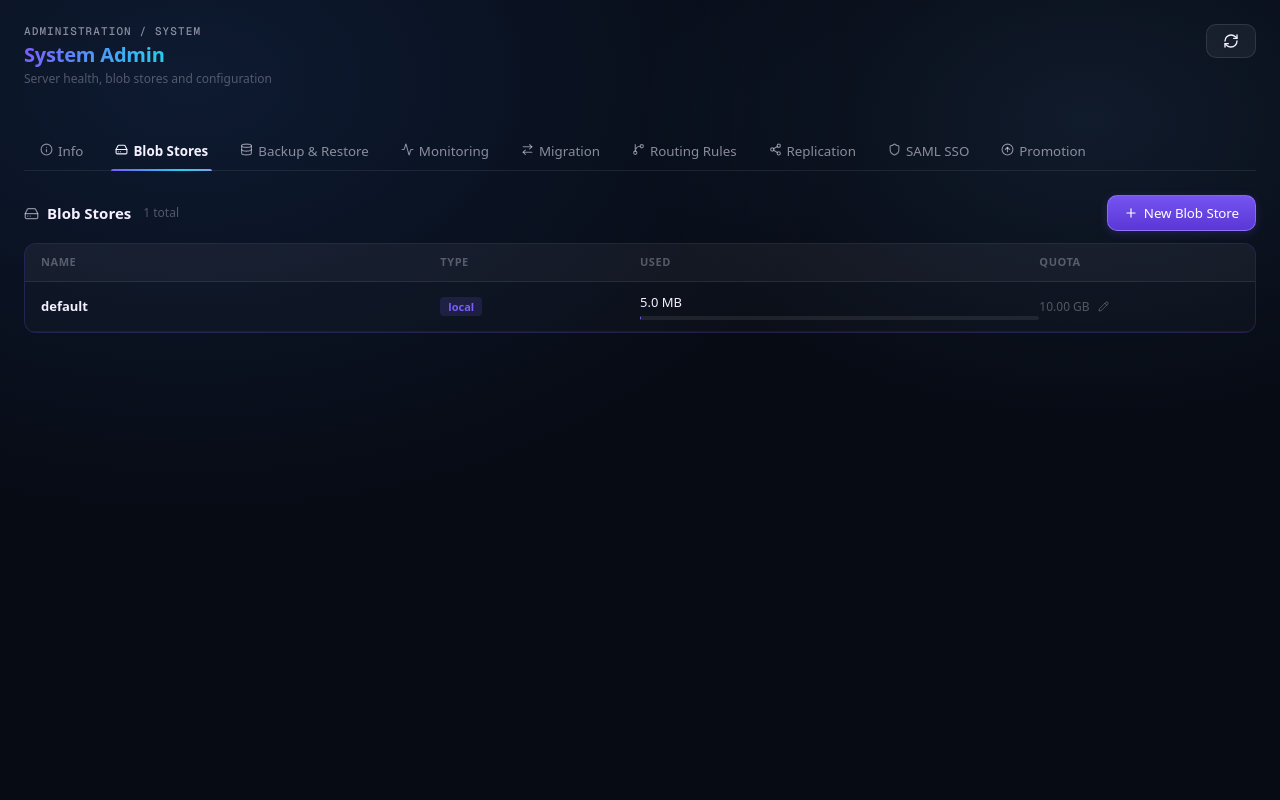
Test: AdminPage — Blob Stores tab › detail modal: runs a dry-run garbage collection
Click the text "default".
click(64, 306)  # box top-left (41, 297), bottom-right (88, 315)
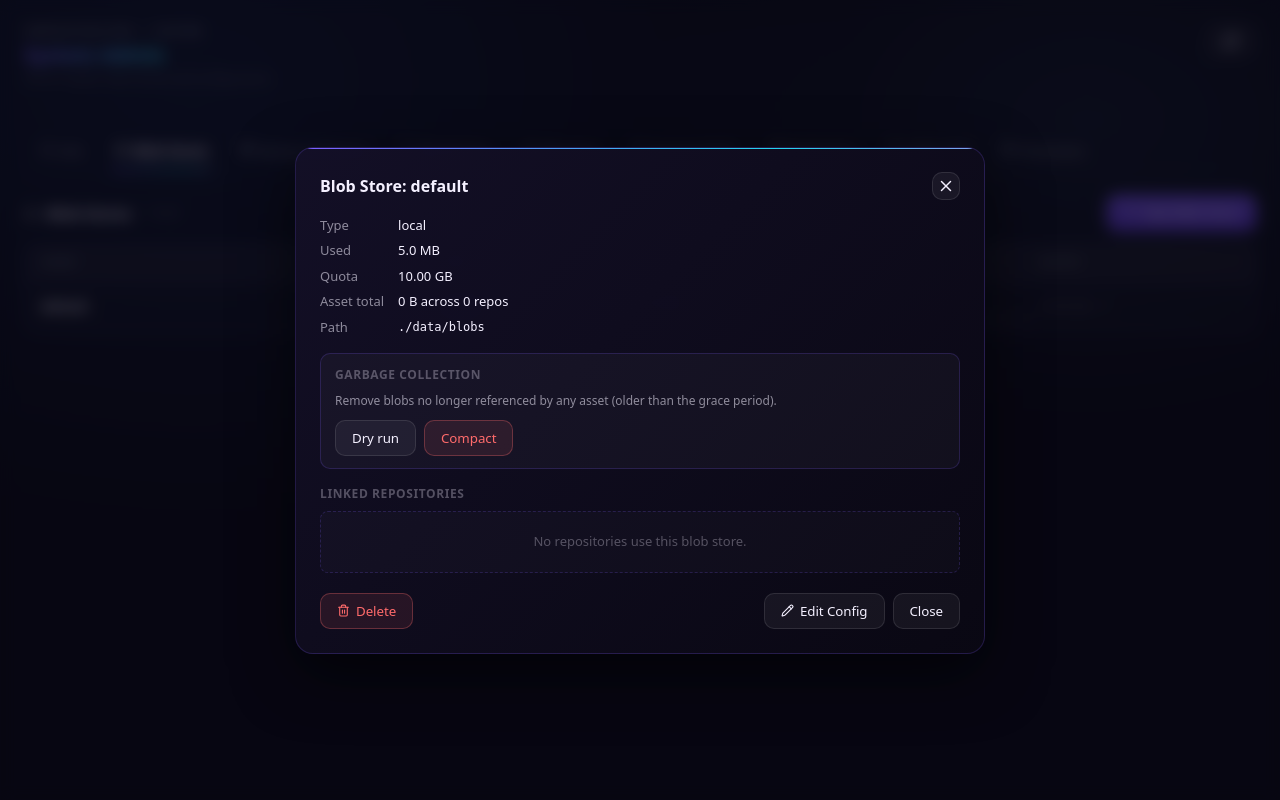
Result: the heading "Blob Store: default" is shown at top-left (320, 174), bottom-right (468, 198)
Click the button "Dry run".
click(376, 438)  # box top-left (335, 420), bottom-right (416, 456)
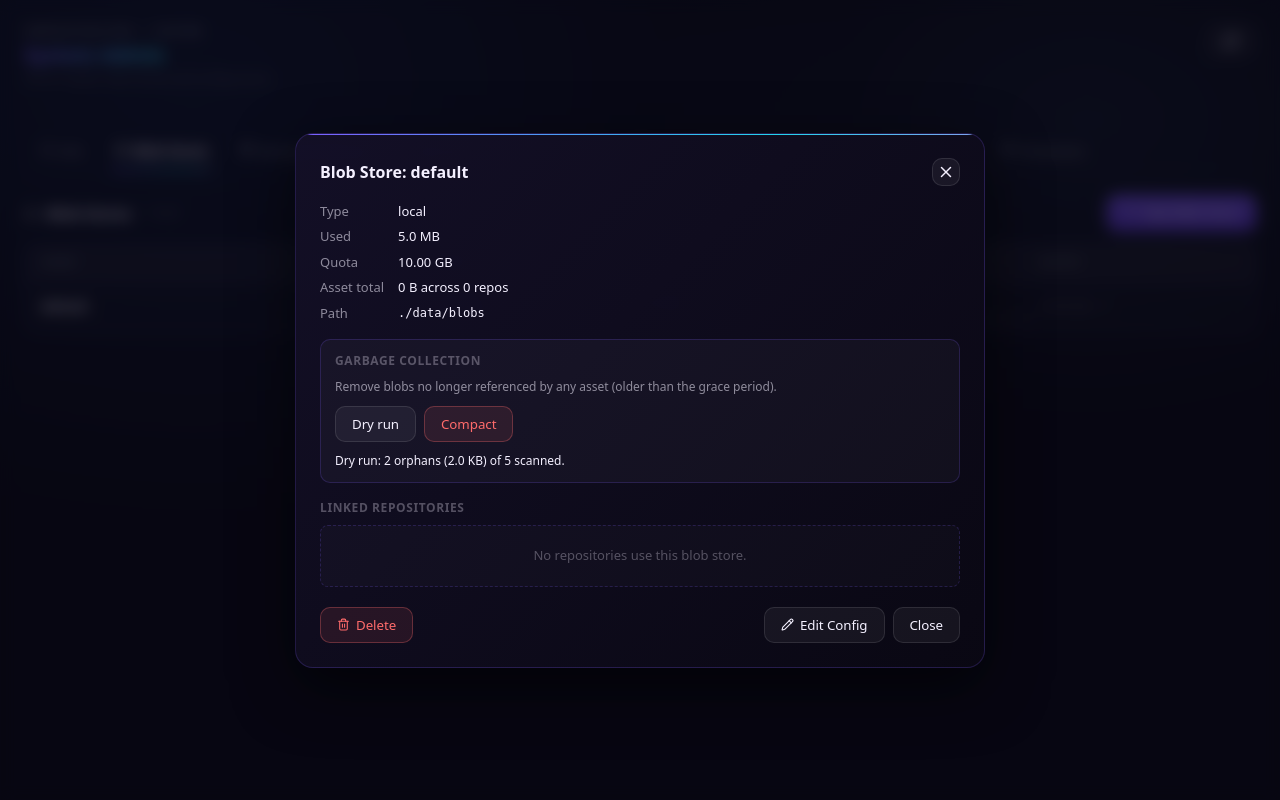
Result: the text "Dry run: 2 orphans (2.0 KB) of 5 scanned." is shown at top-left (335, 452), bottom-right (565, 469)
